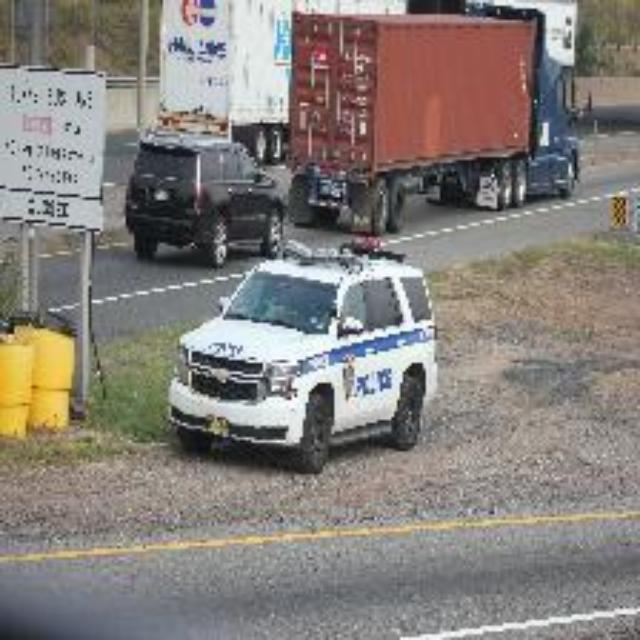emergency: (158, 253, 428, 455)
